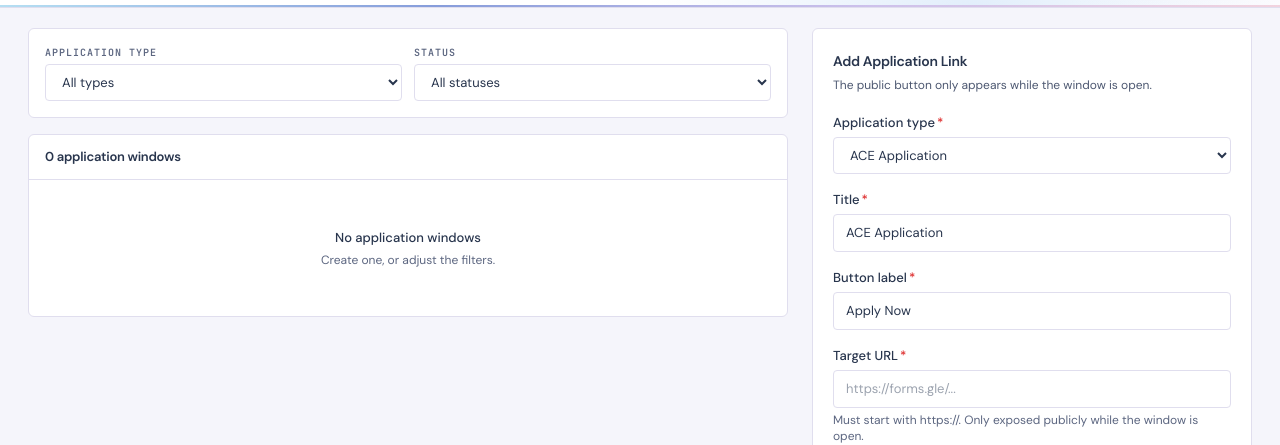
Test: Applications link form › rejects a due time that is not after the open time
Type "https://forms.gle/abc" into the field labelled "Target URL*" at (1032,389), box [833, 370, 1231, 408]
(page scrolled)
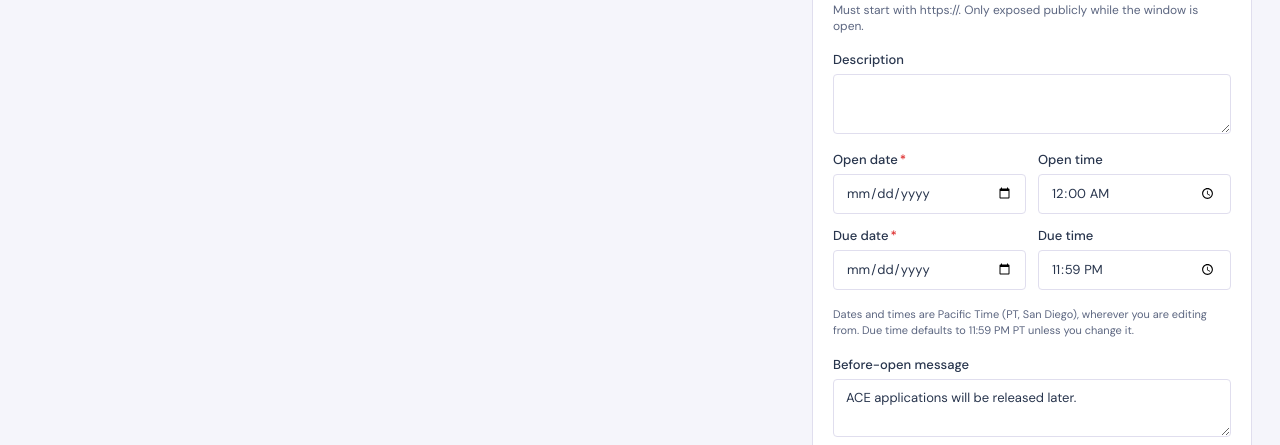
Type "2026-10-01" into the date field labelled "Open date*" at (930,194), box [833, 174, 1026, 214]
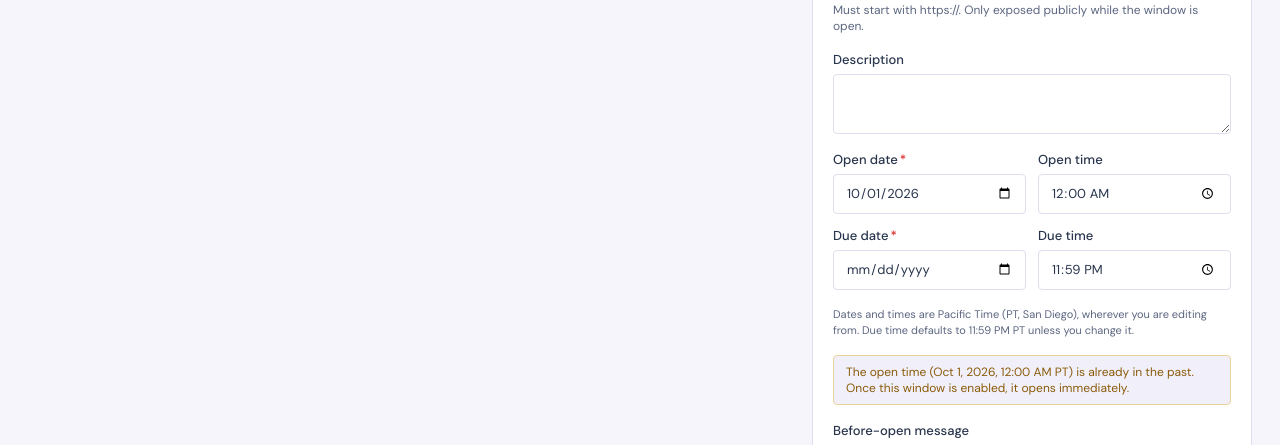
Type "2026-10-15" into the date field labelled "Due date*" at (930,270), box [833, 250, 1026, 290]
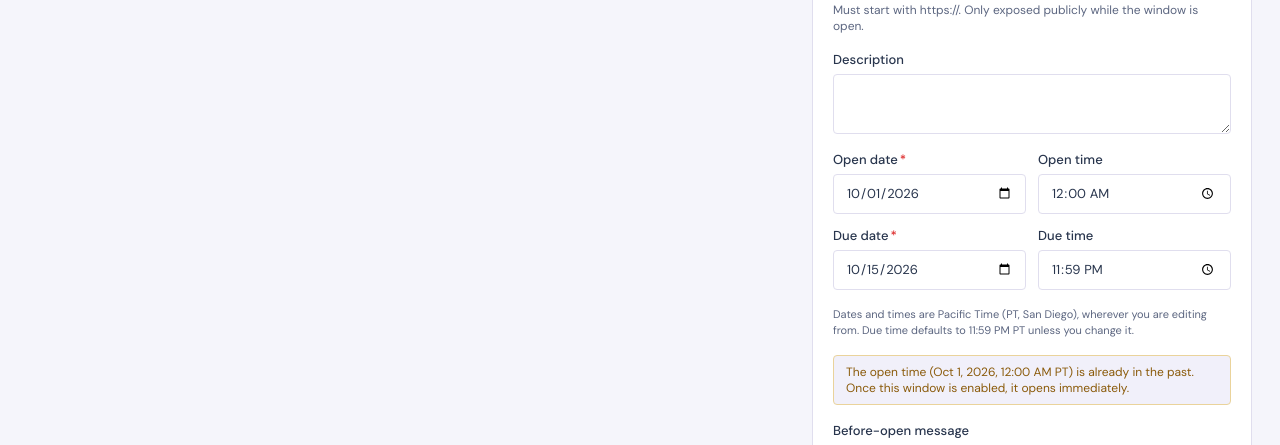
Type "2026-09-30" into the date field labelled "Due date*" at (930,270), box [833, 250, 1026, 290]
(page scrolled)
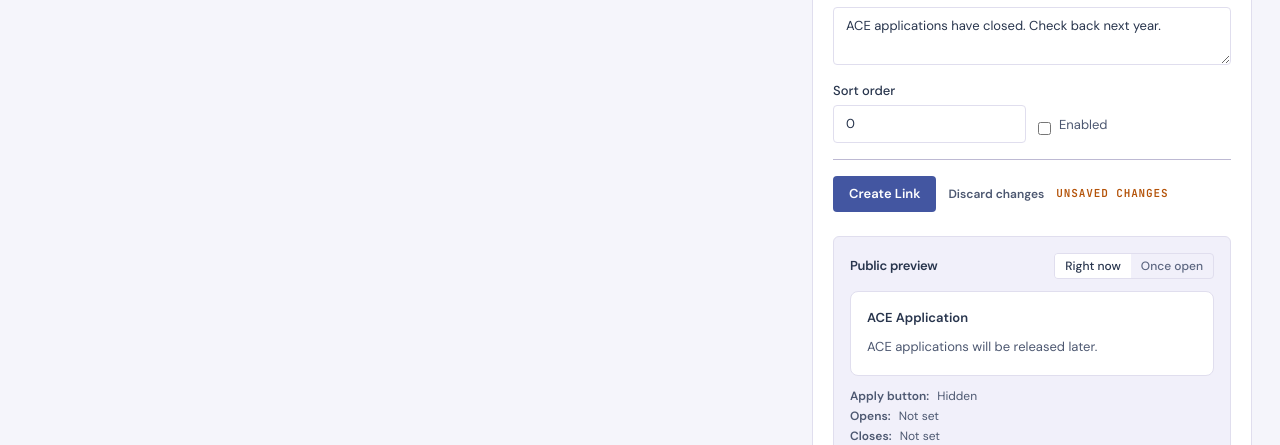
Click the button "Create Link" at (885,194), box [833, 176, 936, 212]
(page scrolled)
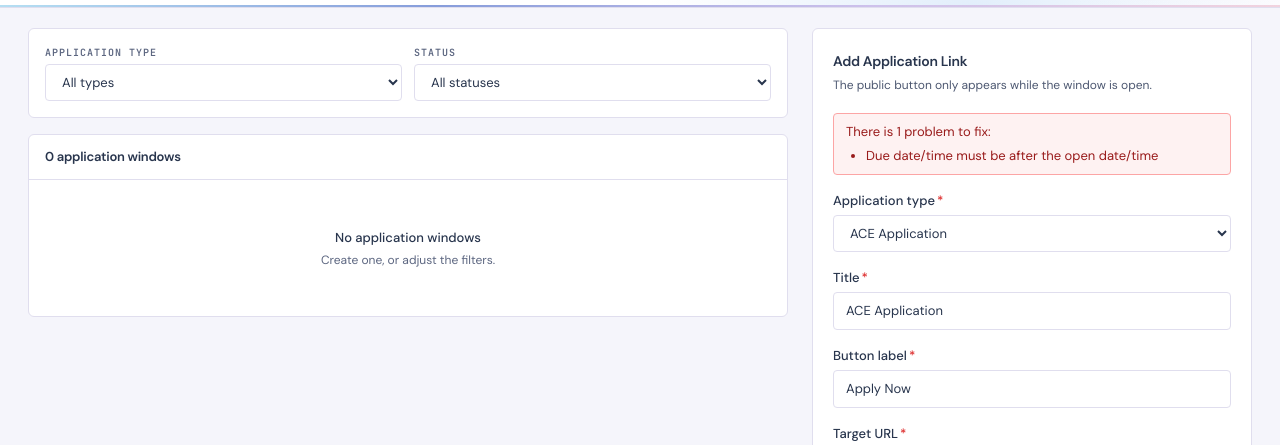
Expected: the list item "Due date/time must be after the open date/time" is shown, [866, 147, 1158, 164]
